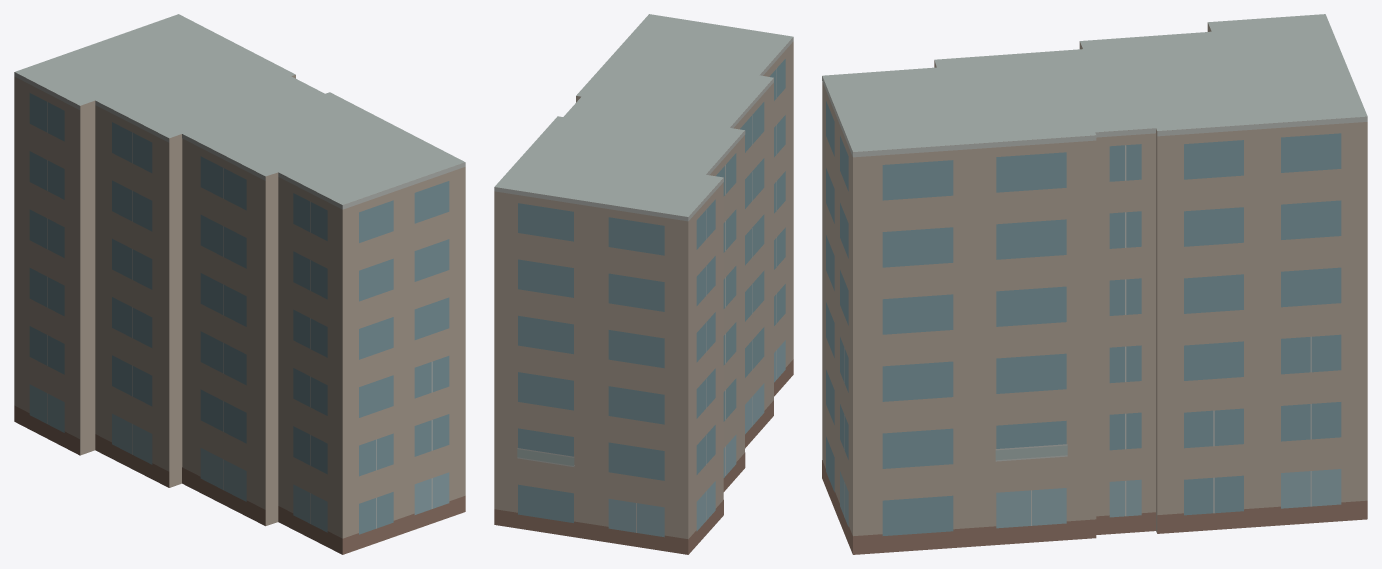
File: survey-upis-32618758.glb
3 renders of one model, left to right at view 1: azimuth 30°, elevation 25°; view 2: azimuth 150°, elevation 25°; view 3: azimuth 270°, elevation 25°, orthographic. The views are drawn at different scales.
Visible parts, largest first — view 1: survey-upis-32618758.tmp; view 2: survey-upis-32618758.tmp; view 3: survey-upis-32618758.tmp.
Boxes of the visible parts, bbox=[...] form: survey-upis-32618758.tmp: bbox=[14, 14, 465, 554]; survey-upis-32618758.tmp: bbox=[494, 14, 793, 554]; survey-upis-32618758.tmp: bbox=[822, 14, 1367, 554].
Size of the model in its own units: 13.84 by 18.8 by 23.09.
